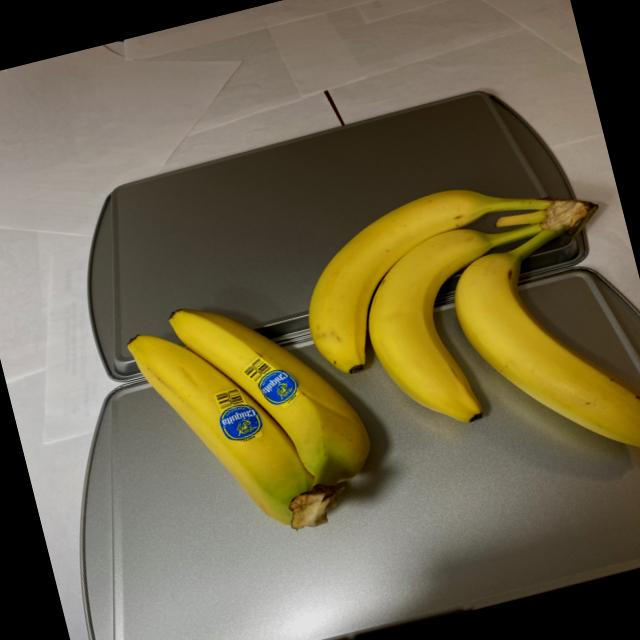banana: (280, 157, 640, 544), (112, 269, 405, 571)
